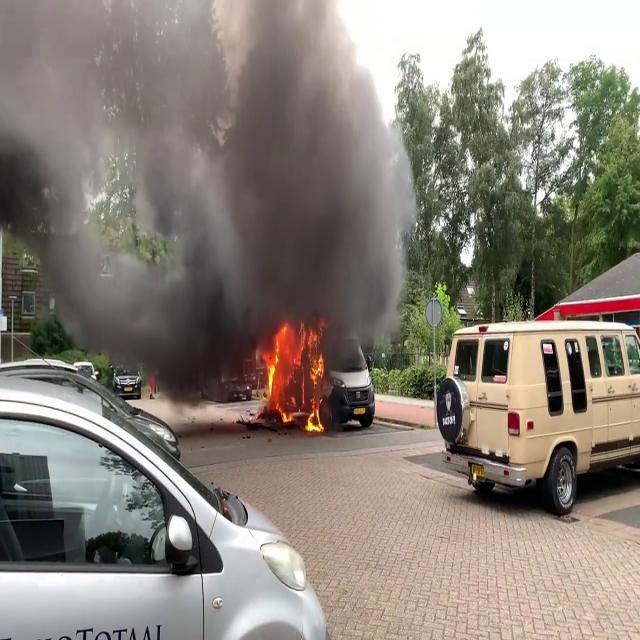Fire: (258, 318, 328, 432)
Smoke: (0, 0, 417, 357)
